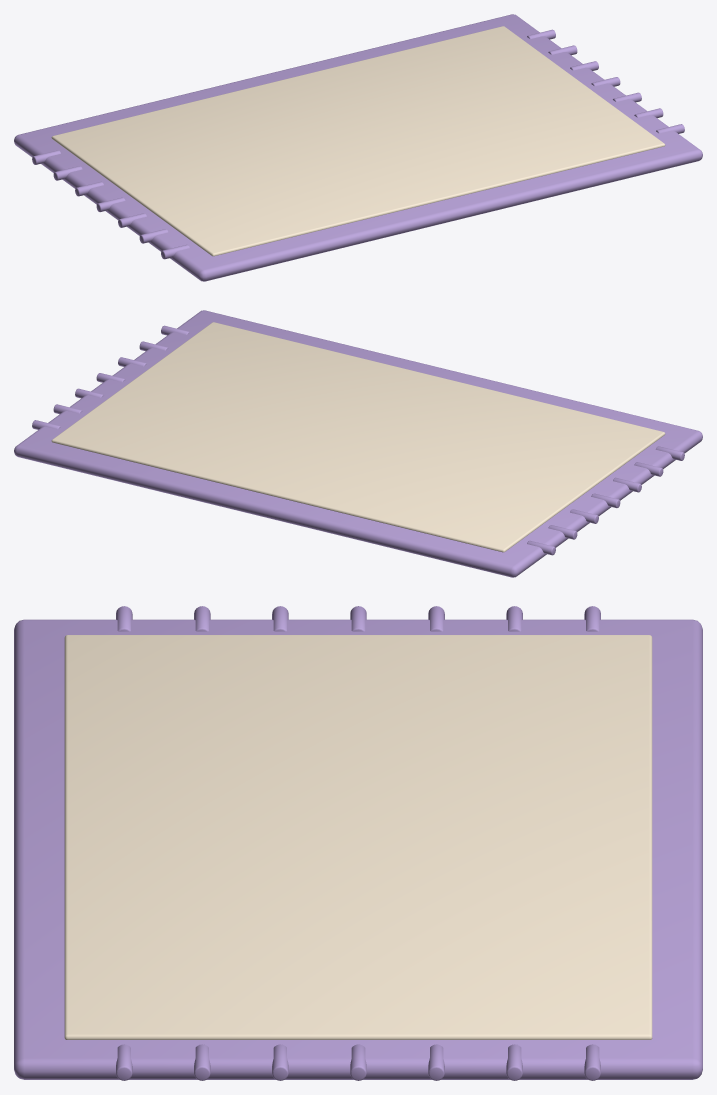
Rendered from rug.glb.
The picture shows the model from 3 angles, top to bottom: view 1: azimuth 30°, elevation 25°; view 2: azimuth 150°, elevation 25°; view 3: azimuth 270°, elevation 25°; orthographic projection. The views are drawn at different scales.
Visible parts, largest first — view 1: AssetSurface; view 2: AssetSurface; view 3: AssetSurface.
Boxes of the visible parts, box(x1,y1,x2,y2) form: AssetSurface: box(14, 14, 702, 281); AssetSurface: box(14, 310, 702, 577); AssetSurface: box(14, 606, 702, 1080).
Bounding box in the file's own units: 2.38 × 0.061 × 1.5.
